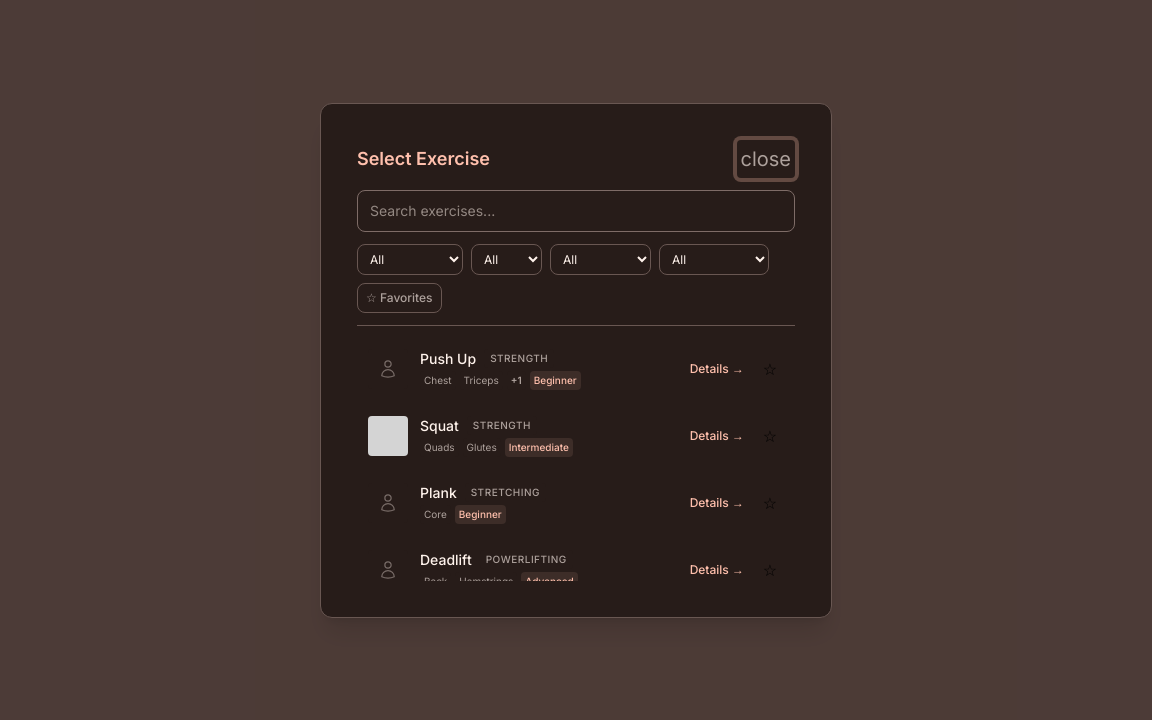
Test: ExercisePicker › category filter select narrows results
Select "Stretching" in the dropdown named "Category": (410, 259) x1=357 y1=244 x2=463 y2=274
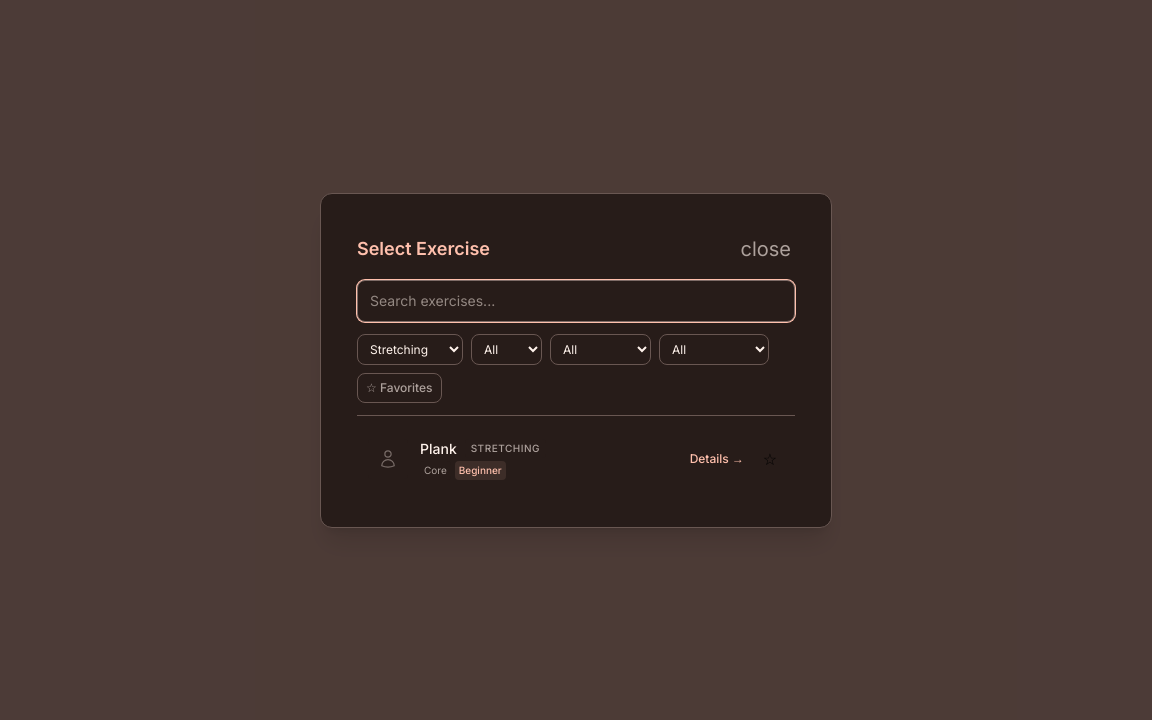
expect the text "Plank" is shown: met, box x1=420 y1=438 x2=457 y2=458
expect the button "Push Up" is gone: met
expect the button "Squat" is gone: met
